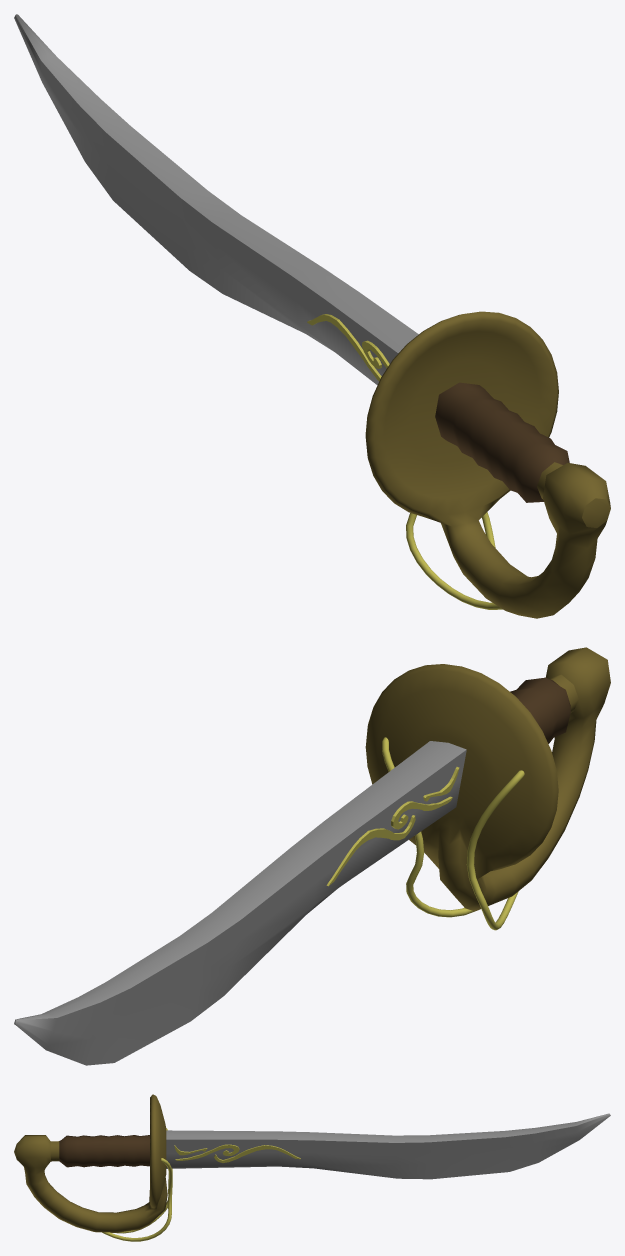
Rendered from sword.fbx.
The picture shows the model from 3 angles, top to bottom: view 1: azimuth 30°, elevation 25°; view 2: azimuth 150°, elevation 25°; view 3: azimuth 270°, elevation 25°; orthographic projection. The views are drawn at different scales.
Visible parts, largest first — view 1: sword; view 2: sword; view 3: sword.
Boxes of the visible parts, box(x1,y1,x2,y2) form: sword: box(14, 14, 610, 618); sword: box(14, 647, 610, 1065); sword: box(14, 1094, 610, 1241).
Bounding box in the file's own units: 35.8 × 47.57 × 187.
